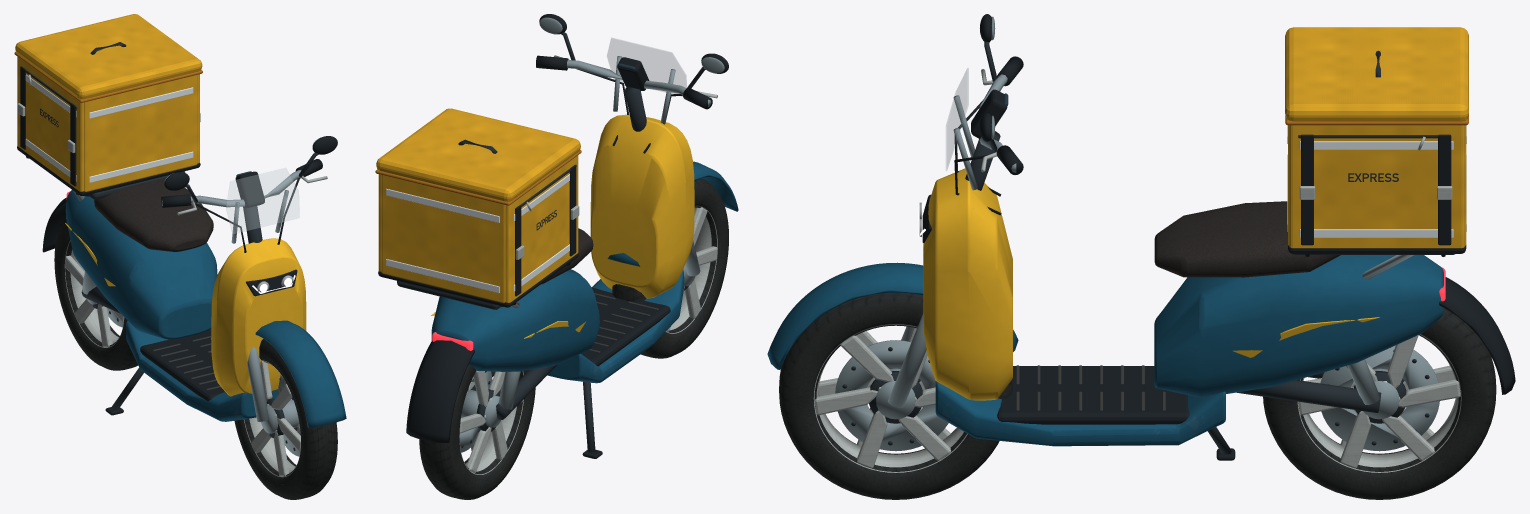
Rendered from 外卖配送电动车.glb.
3 views of the same model, side by side, from view 1: azimuth 30°, elevation 25°; view 2: azimuth 150°, elevation 25°; view 3: azimuth 270°, elevation 25° (orthographic). The views are drawn at different scales.
Parts seen in each view (by area): view 1: Body, Cargo.Box, Steering, Cargo.Lid, Wheel.Front, Wheel.Rear, Light.Front; view 2: Body, Cargo.Box, Cargo.Lid, Wheel.Rear, Steering, Wheel.Front; view 3: Body, Wheel.Front, Wheel.Rear, Cargo.Box, Cargo.Lid, Steering.
Boxes of the visible parts, x1,y1,x2,y2 form: Body: (26, 156, 306, 421); Cargo.Box: (17, 57, 200, 195); Steering: (161, 136, 346, 427); Cargo.Lid: (14, 14, 202, 102); Wheel.Front: (234, 339, 337, 499); Wheel.Rear: (54, 217, 138, 370); Light.Front: (246, 269, 297, 296); Body: (397, 114, 694, 458); Cargo.Box: (378, 155, 579, 307); Cargo.Lid: (375, 108, 581, 205); Wheel.Rear: (419, 365, 535, 499); Steering: (536, 14, 738, 276); Wheel.Front: (612, 178, 728, 358); Body: (923, 168, 1515, 460); Wheel.Front: (779, 292, 1012, 499); Wheel.Rear: (1263, 308, 1496, 499); Cargo.Box: (1287, 125, 1466, 253); Cargo.Lid: (1285, 27, 1468, 125); Steering: (767, 14, 1023, 408).
Size of the model in its own units: 0.6582 by 1.16 by 1.8.
19 materials, 6 textured.
